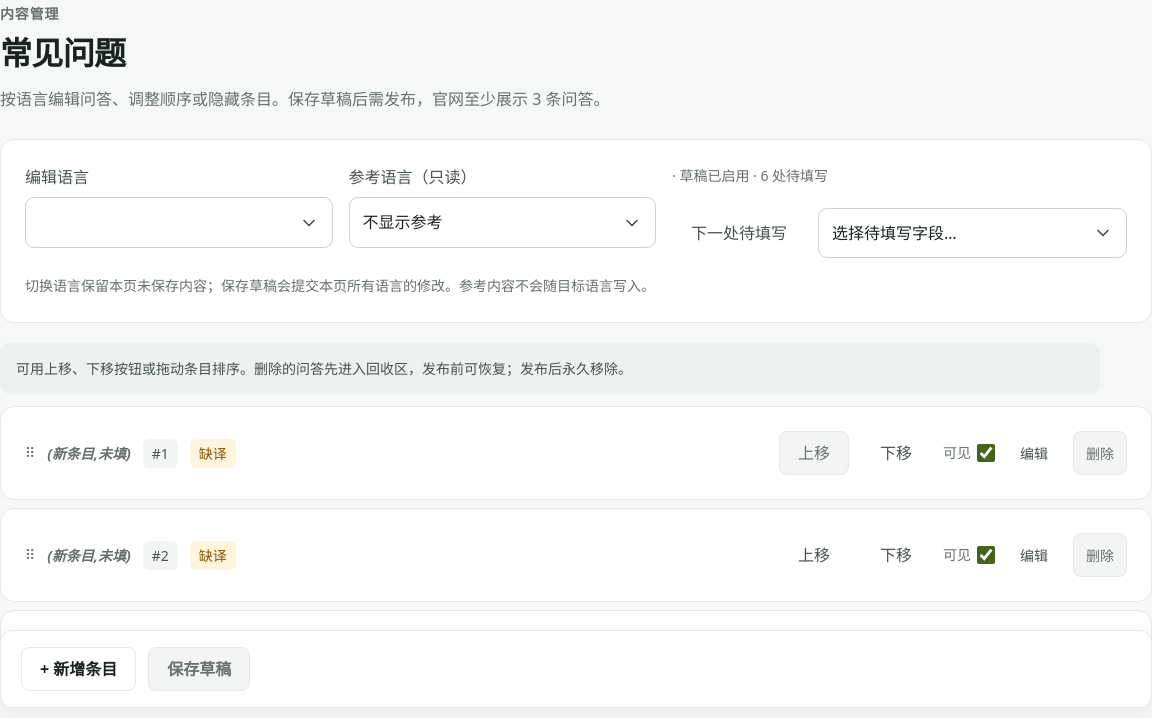
Scenario: FAQ add flow › shows a retryable error instead of leaking an unhandled rejection
The image size is (1152, 718).
Click the button "+ 新增条目" at (79, 669), box [21,647,136,691]
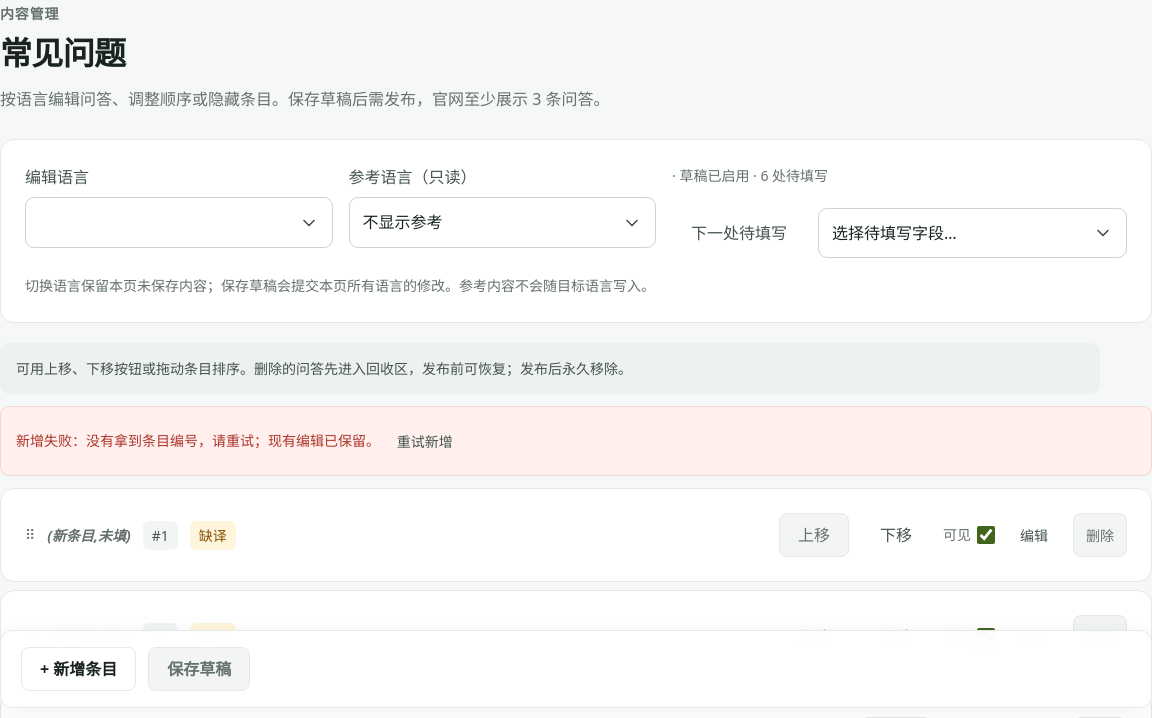
Now the message "新增失败：没有拿到条目编号，请重试；现有编辑已保留。 重试新增" is shown, box [0,406,1151,476]
Now the button "重试新增" is enabled, box [384,419,466,463]
